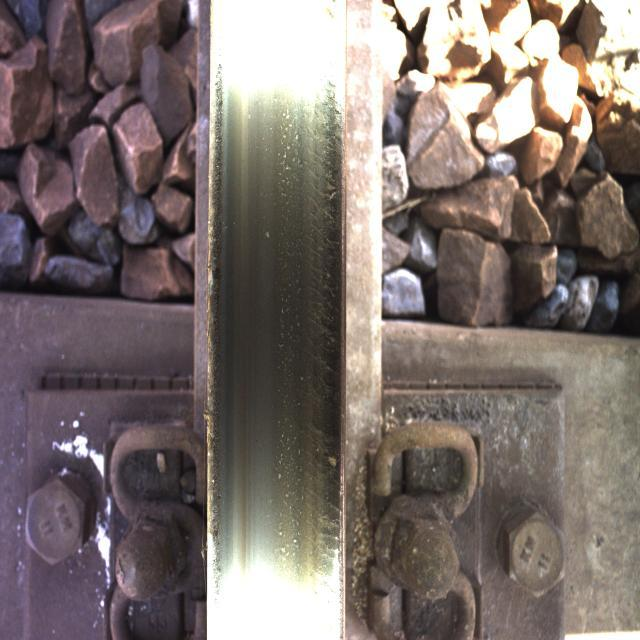normal: (219, 43, 340, 585)
